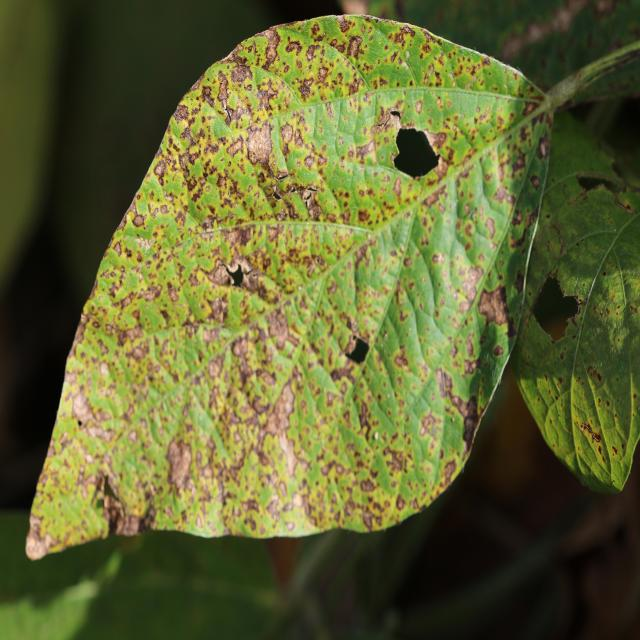Bacterial_Blight: (169, 418, 223, 518), (264, 221, 343, 288), (76, 346, 137, 431), (199, 224, 269, 270), (193, 141, 239, 199), (212, 67, 256, 126), (470, 57, 528, 99), (262, 377, 298, 439), (70, 383, 106, 431), (226, 159, 263, 204), (244, 120, 276, 169), (166, 437, 193, 489), (460, 392, 481, 451), (455, 263, 483, 306), (231, 334, 257, 380), (277, 432, 300, 481), (117, 322, 152, 353), (265, 306, 290, 349), (102, 493, 128, 533), (110, 509, 144, 537), (510, 216, 535, 252), (389, 343, 411, 380), (542, 222, 565, 254), (177, 313, 215, 332), (201, 323, 227, 349), (207, 261, 233, 287), (255, 84, 278, 113), (302, 191, 324, 220), (215, 73, 231, 109), (209, 116, 232, 140), (355, 139, 377, 164), (420, 411, 440, 438), (423, 185, 446, 208), (210, 295, 229, 322), (230, 63, 251, 85), (207, 354, 224, 380), (492, 184, 513, 205), (427, 130, 448, 150), (395, 25, 415, 45), (358, 402, 371, 431), (297, 77, 314, 99), (180, 126, 197, 148), (346, 36, 363, 58), (511, 150, 527, 173), (227, 135, 243, 158), (143, 283, 162, 302), (443, 459, 456, 486), (504, 314, 518, 339), (173, 103, 190, 123), (537, 135, 550, 159), (513, 268, 525, 294), (281, 123, 295, 145), (464, 333, 476, 358), (285, 39, 302, 56), (264, 45, 278, 65), (153, 159, 167, 178), (360, 477, 376, 493), (362, 510, 375, 529), (317, 65, 329, 83), (132, 213, 146, 228), (223, 106, 233, 126), (357, 209, 371, 223), (201, 216, 215, 230), (529, 174, 541, 190), (302, 189, 314, 204), (432, 252, 446, 264), (492, 344, 504, 357), (272, 187, 283, 201), (464, 222, 474, 237), (414, 100, 423, 114), (396, 56, 405, 68), (436, 97, 444, 109), (373, 430, 379, 440), (77, 419, 83, 427), (298, 284, 304, 291)
Soybean: (27, 15, 640, 559)
